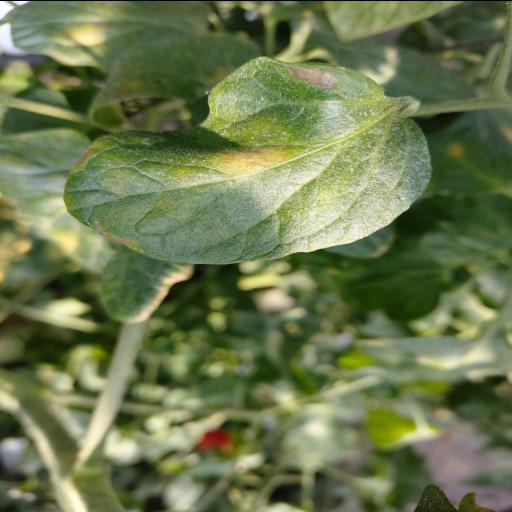disease_tomato: (61, 56, 435, 264)
